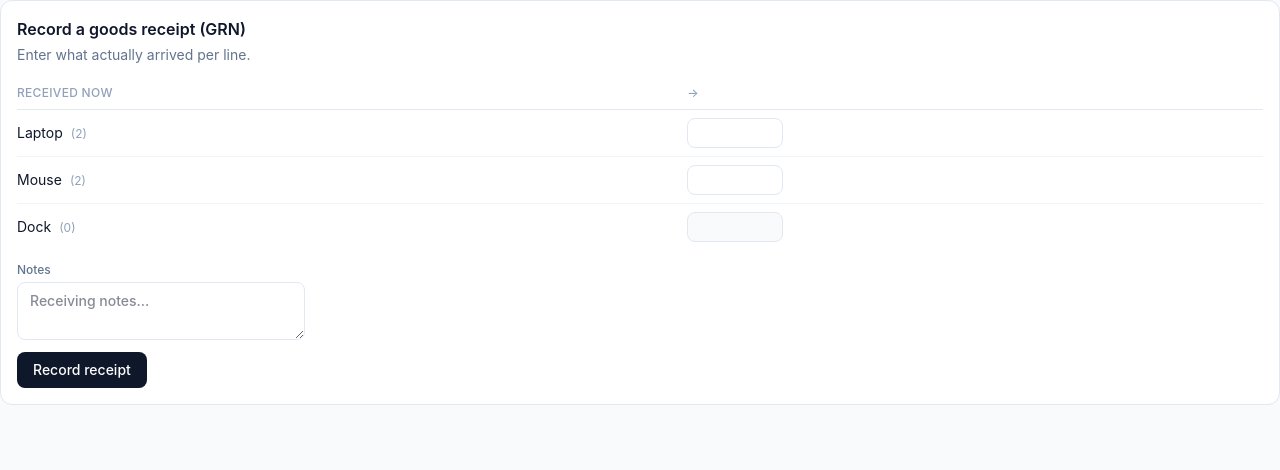
Test case: GoodsReceiptForm › POSTs the filled lines and trimmed notes; success shows the GRN number and refreshes
In the number field with test id "grn-qty-it-1": (735, 133) x1=687 y1=118 x2=783 y2=148, type "2"
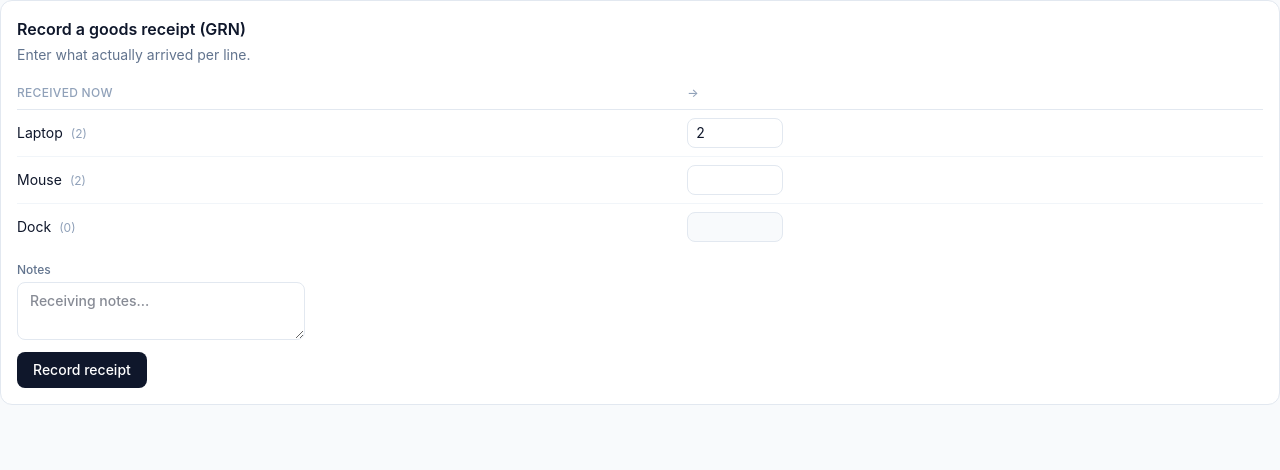
In the number field with test id "grn-qty-it-2": (735, 180) x1=687 y1=165 x2=783 y2=195, type "2"
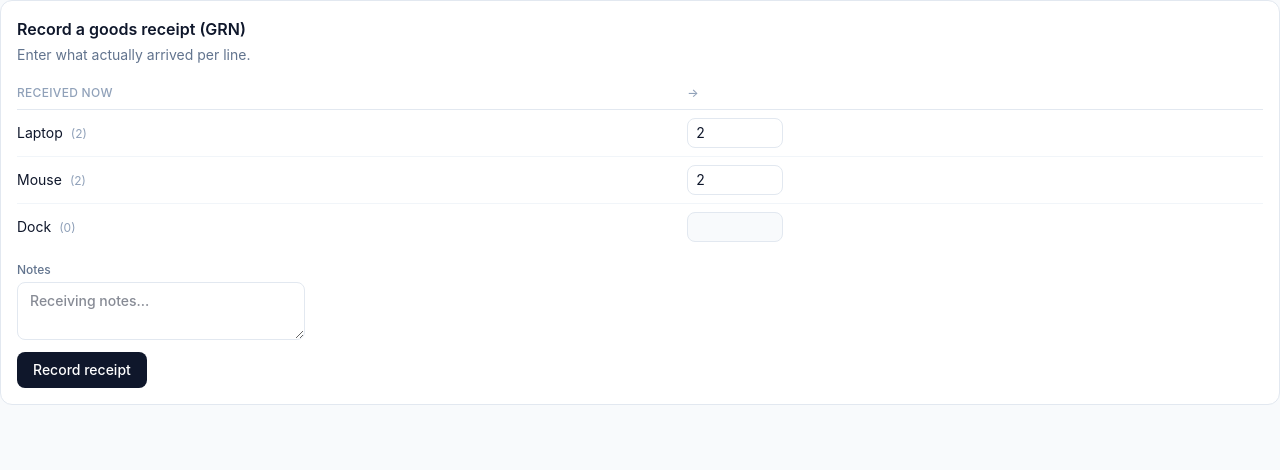
In the text box with test id "grn-notes": (161, 311) x1=17 y1=282 x2=305 y2=340, type "  dock 3  "
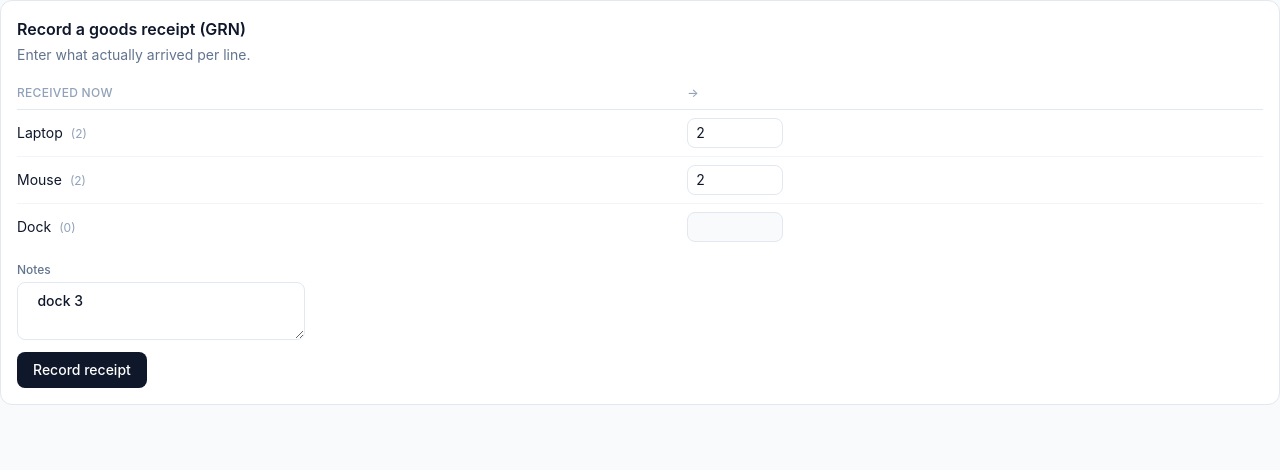
Click the button with test id "grn-submit": (82, 370) x1=17 y1=352 x2=147 y2=388
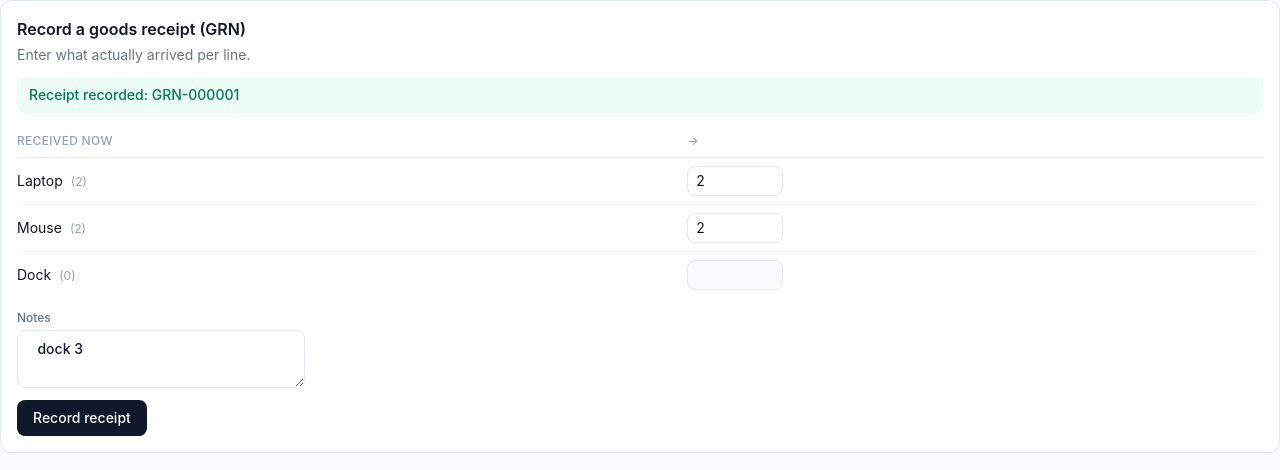
Result: the message with test id "grn-confirmation" shows "GRN-000001" at x1=152 y1=86 x2=239 y2=103
